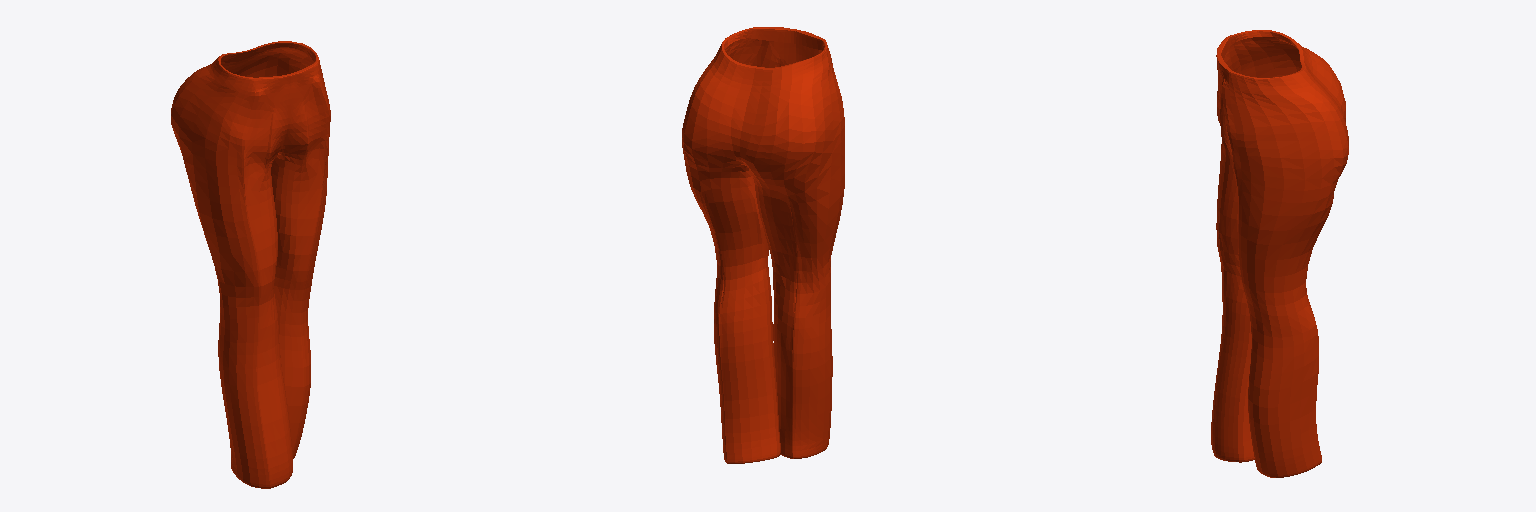
File: geziku6.obj
3 views of the same model, side by side, from view 1: azimuth 30°, elevation 25°; view 2: azimuth 150°, elevation 25°; view 3: azimuth 270°, elevation 25° (orthographic).
Visible parts, largest first — view 1: geziku; view 2: geziku; view 3: geziku.
Part boxes in pixels (left/top/right/bottom): geziku: left=171, top=41, right=330, bottom=488; geziku: left=682, top=27, right=844, bottom=463; geziku: left=1211, top=30, right=1348, bottom=477.
Bounding box in the file's own units: 1.99 × 5.83 × 1.77.